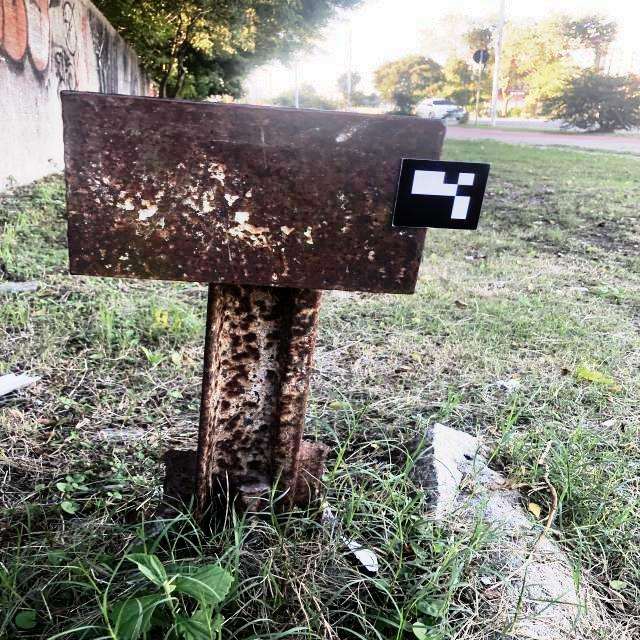Corrosion: (61, 90, 448, 531)
